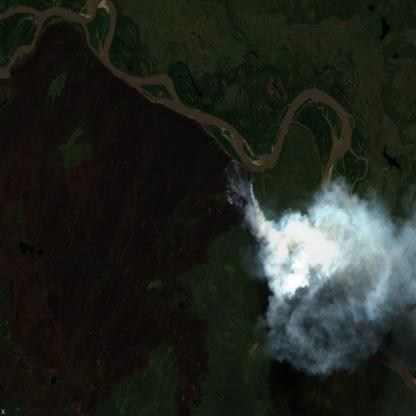fire: (221, 150, 274, 253)
